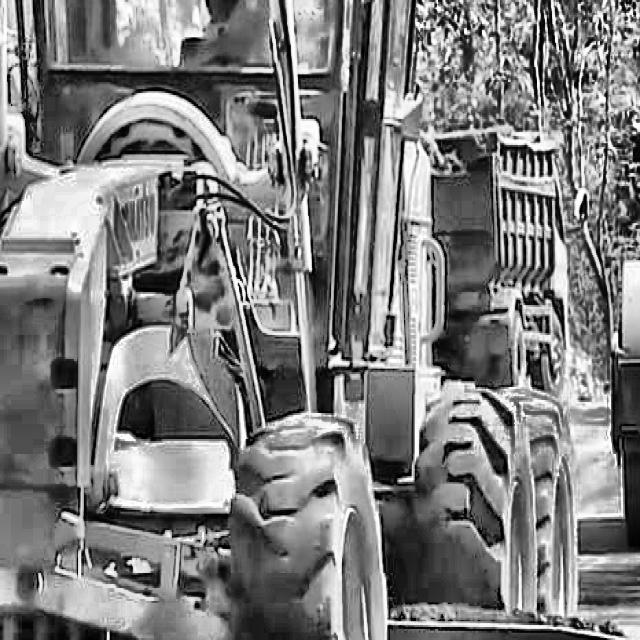buldozerpayloadergrader: (0, 0, 569, 640)
dump_truck: (437, 125, 572, 378)
